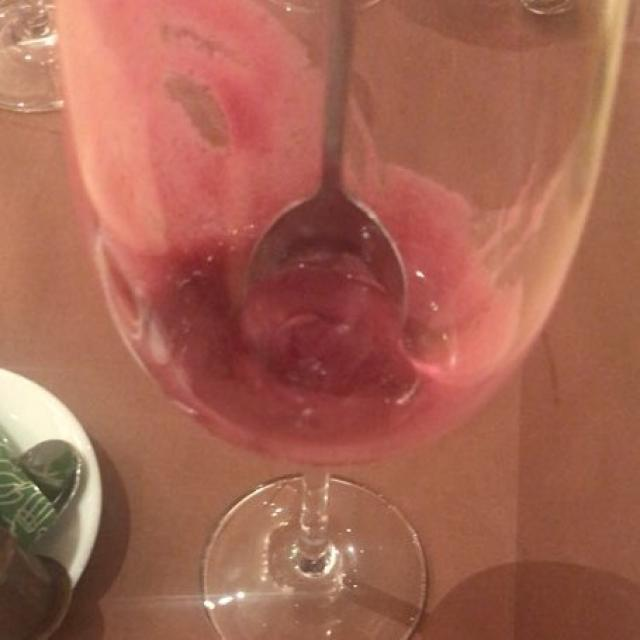sorbet: (114, 187, 531, 458)
